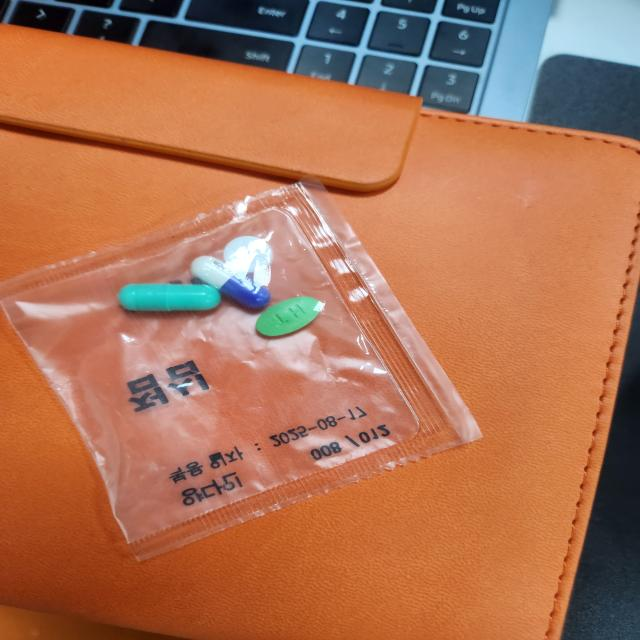러키펜정: (222, 233, 274, 272)
씨엠지세파클러캡슐: (190, 256, 270, 310)
에르도캡슐: (119, 285, 220, 314)
휴티렌정: (255, 296, 325, 342)
